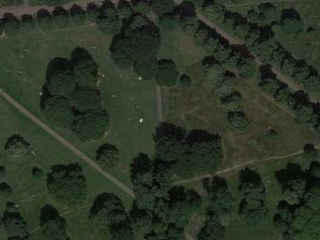Tree: (42, 161, 84, 207), (84, 189, 127, 228), (177, 131, 221, 169), (147, 123, 191, 161), (108, 29, 146, 62), (195, 177, 233, 210), (74, 110, 109, 141), (68, 57, 103, 88), (70, 85, 105, 116), (43, 96, 78, 127), (39, 62, 74, 93), (221, 108, 253, 137), (159, 59, 185, 88), (135, 51, 161, 80), (96, 141, 122, 170), (5, 133, 31, 162), (232, 169, 262, 194), (223, 95, 248, 115), (212, 72, 237, 92), (202, 58, 221, 76)
